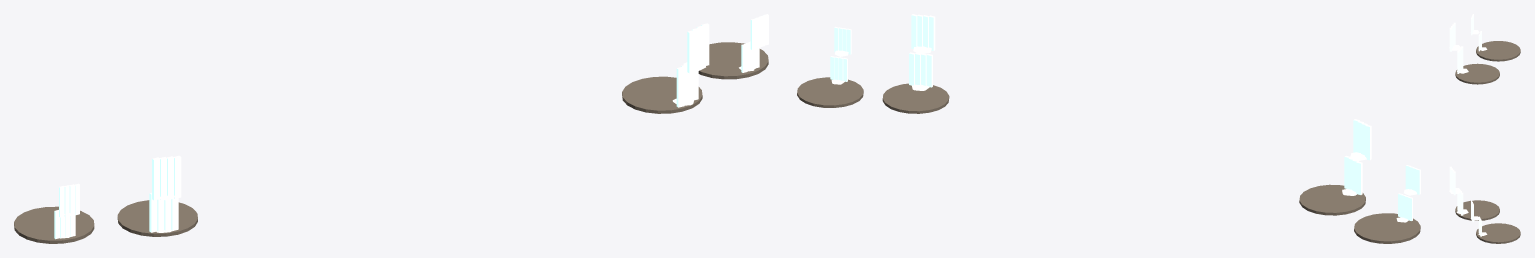
File: SM_Zoo_Water.glb
3 views of the same model, side by side, from view 1: azimuth 30°, elevation 25°; view 2: azimuth 150°, elevation 25°; view 3: azimuth 270°, elevation 25° (orthographic). The views are drawn at different scales.
Parts seen in each view (by area): view 1: SM_Zoo_Water; view 2: SM_Zoo_Water; view 3: SM_Zoo_Water.
Part boxes in pixels (x1=…): SM_Zoo_Water: x1=14, y1=14, x2=768, y2=243; SM_Zoo_Water: x1=797, y1=14, x2=1420, y2=243; SM_Zoo_Water: x1=1449, y1=14, x2=1520, y2=243.
Bounding box in the file's own units: 72.23 × 7.62 × 10.86.
